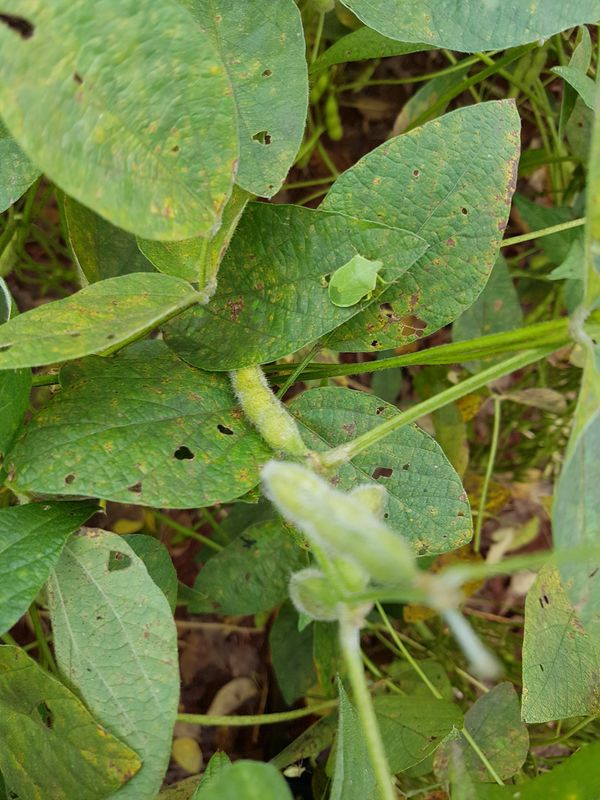Nezara_viridula_adulto: (314, 244, 405, 316)
